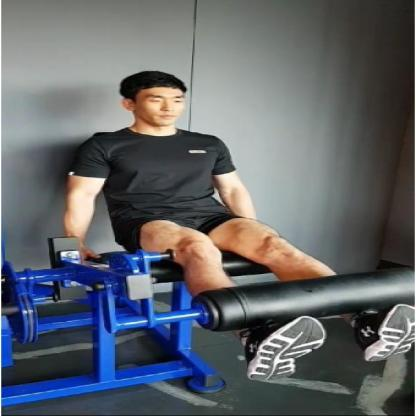leg extension: (0, 56, 416, 416)
